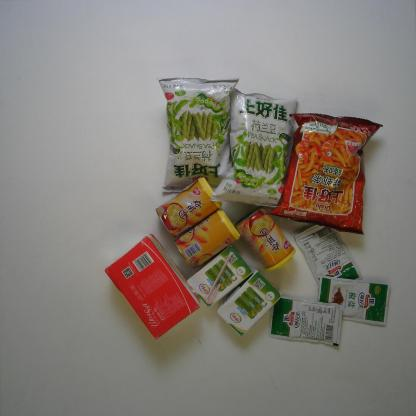Canned Food: (233, 205, 296, 273), (174, 209, 242, 270), (156, 177, 223, 238)
Milk: (216, 267, 282, 337), (186, 245, 253, 307)
Puffed Food: (268, 112, 384, 235), (210, 81, 298, 209), (157, 76, 242, 194)
Seasoner: (294, 218, 363, 290), (267, 294, 344, 348), (313, 275, 392, 326)
Tissue: (104, 234, 202, 342)
